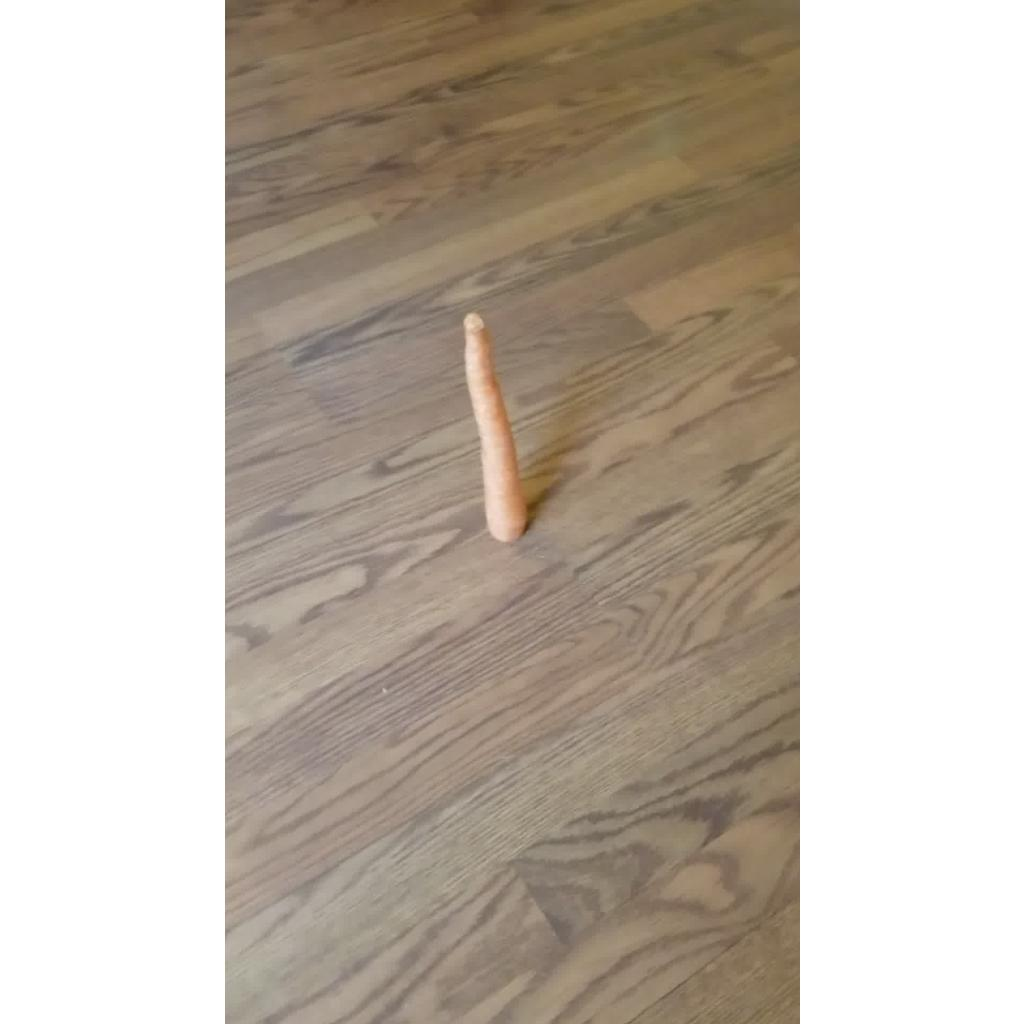carrot: (462, 314, 526, 542)
